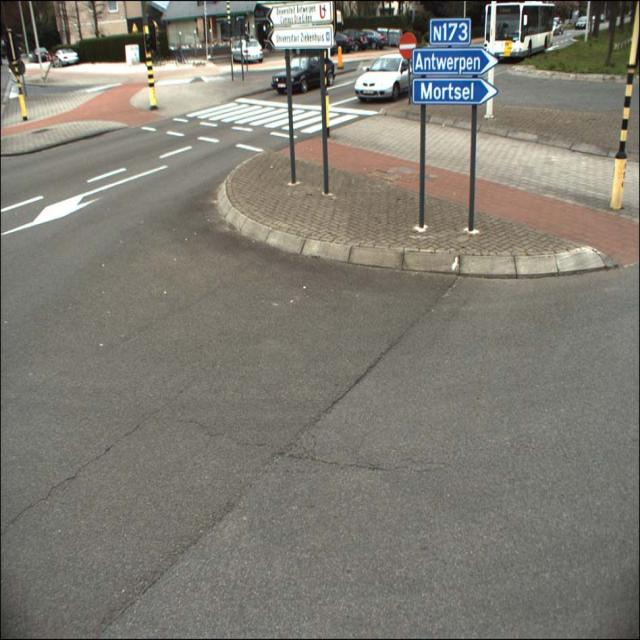girisyok: (398, 33, 416, 62)
